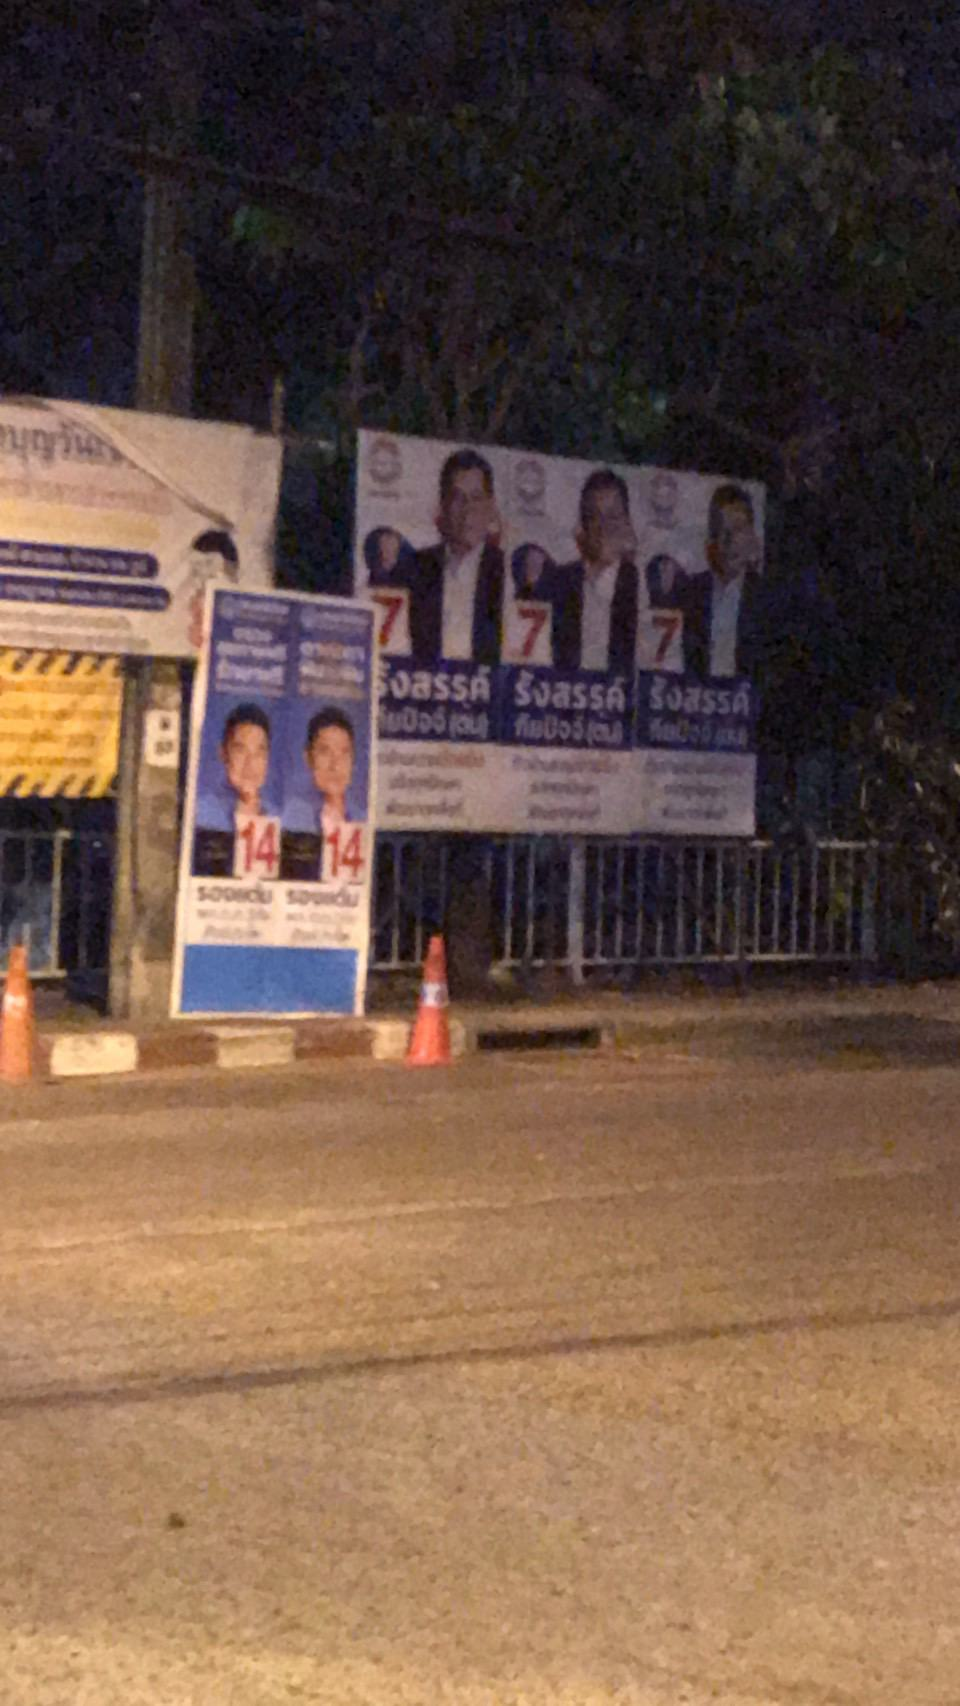Banner: (339, 414, 776, 844), (168, 595, 381, 1023)
